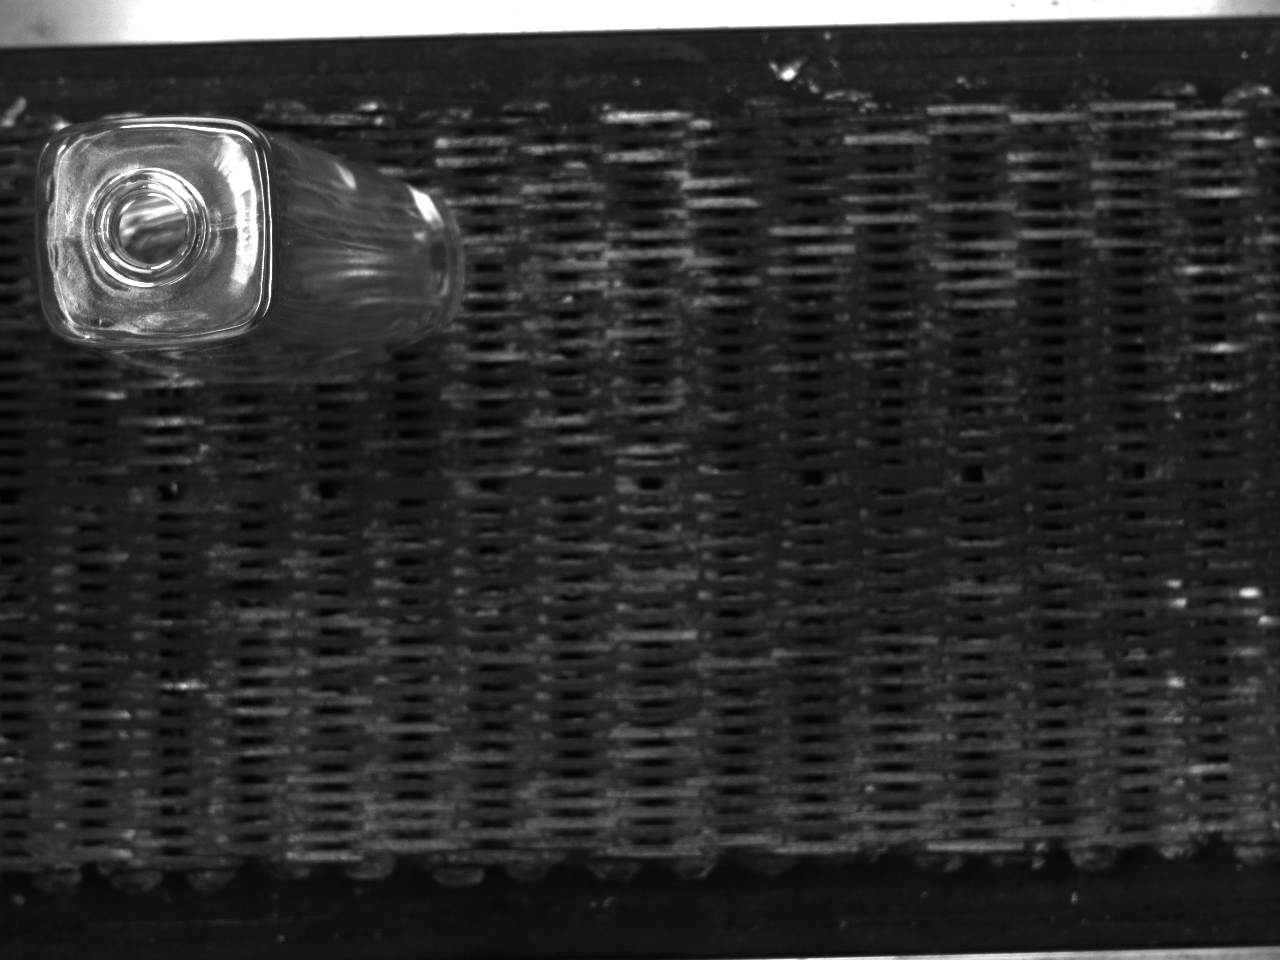bottleneck: (90, 168, 208, 286)
